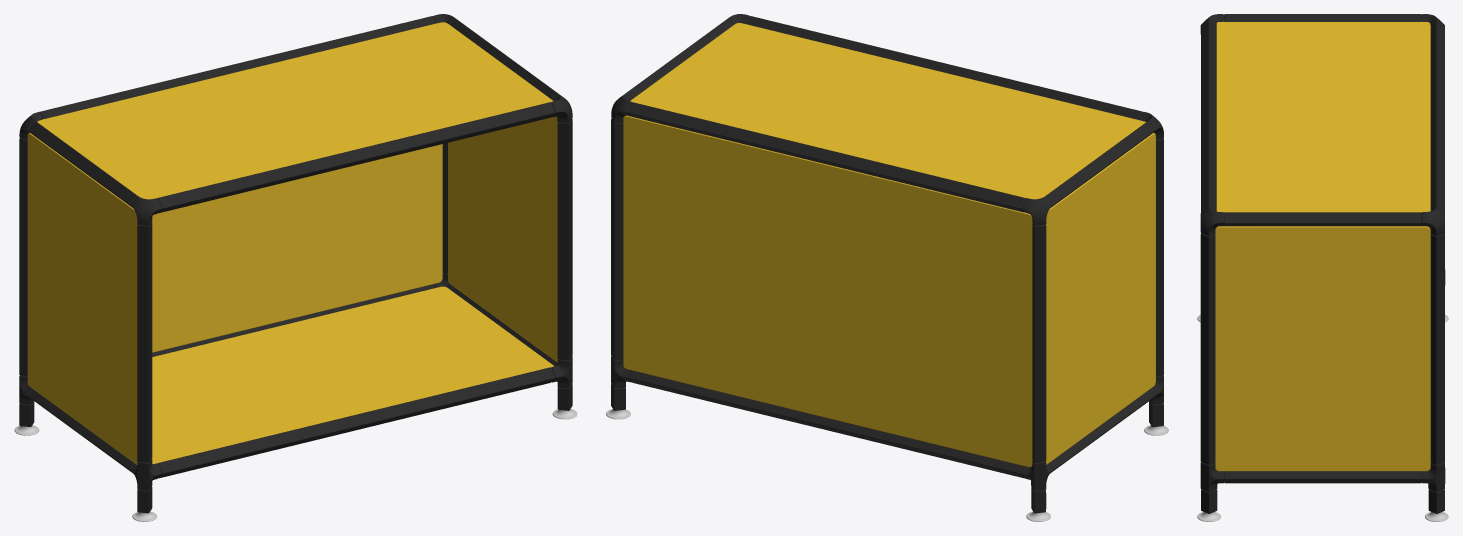
3 renders of one model, left to right at view 1: azimuth 30°, elevation 25°; view 2: azimuth 150°, elevation 25°; view 3: azimuth 270°, elevation 25°, orthographic. The views are drawn at different scales.
Parts seen in each view (by area): view 1: 729x329x420; view 2: 729x329x420; view 3: 729x329x420.
Boxes of the visible parts, box(x1,y1,x2,y2) form: 729x329x420: box(14, 14, 577, 521); 729x329x420: box(606, 14, 1168, 521); 729x329x420: box(1197, 14, 1448, 521).
Bounding box in the file's own units: 0.8189 × 0.5593 × 0.4182.
